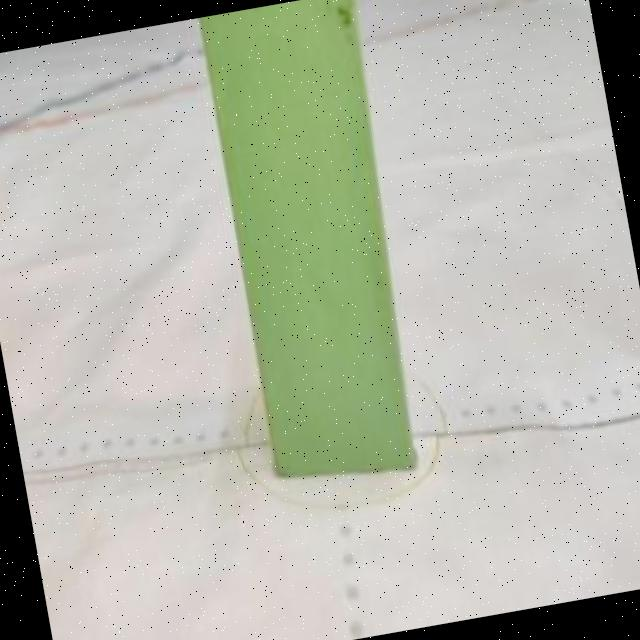greenbox: (196, 0, 433, 491)
